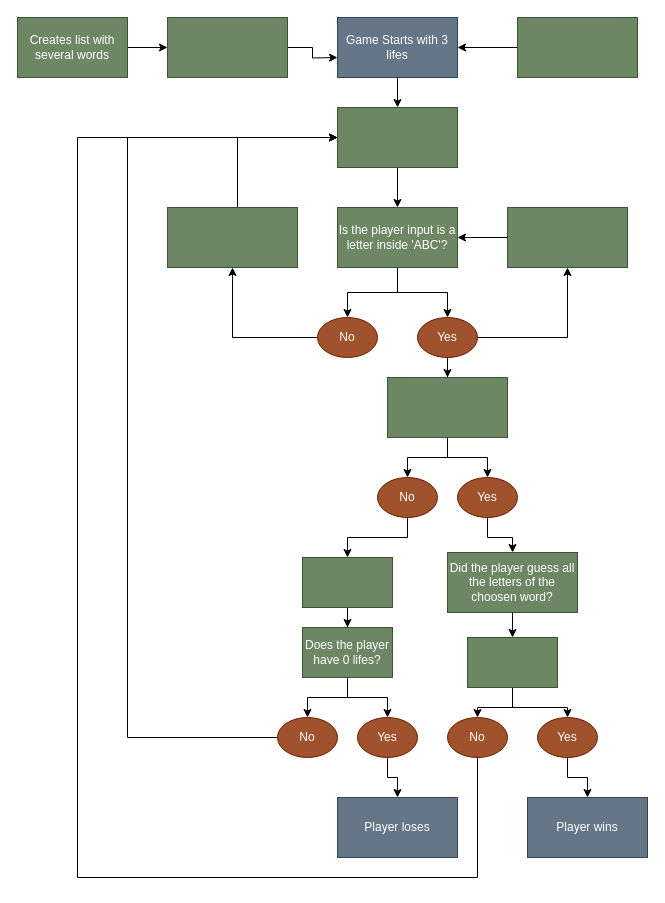
The diagram is 665 pixels wide and 903 high, and some of its shapes have lost their labels. Each missing label, with the centre of its shape:
'ABC' is updated, selected letter is removed: point 567,237
Is the selected letter part of the choosen word?: point 447,407
List of all letters is created (ABC): point 577,47
Minus 1 life: point 347,582
Player is asked to write a letter: point 397,137
Plus 1 life: point 512,662
Prints: "The letter is not part of the word": point 232,237
Random word is choosen: point 227,47
